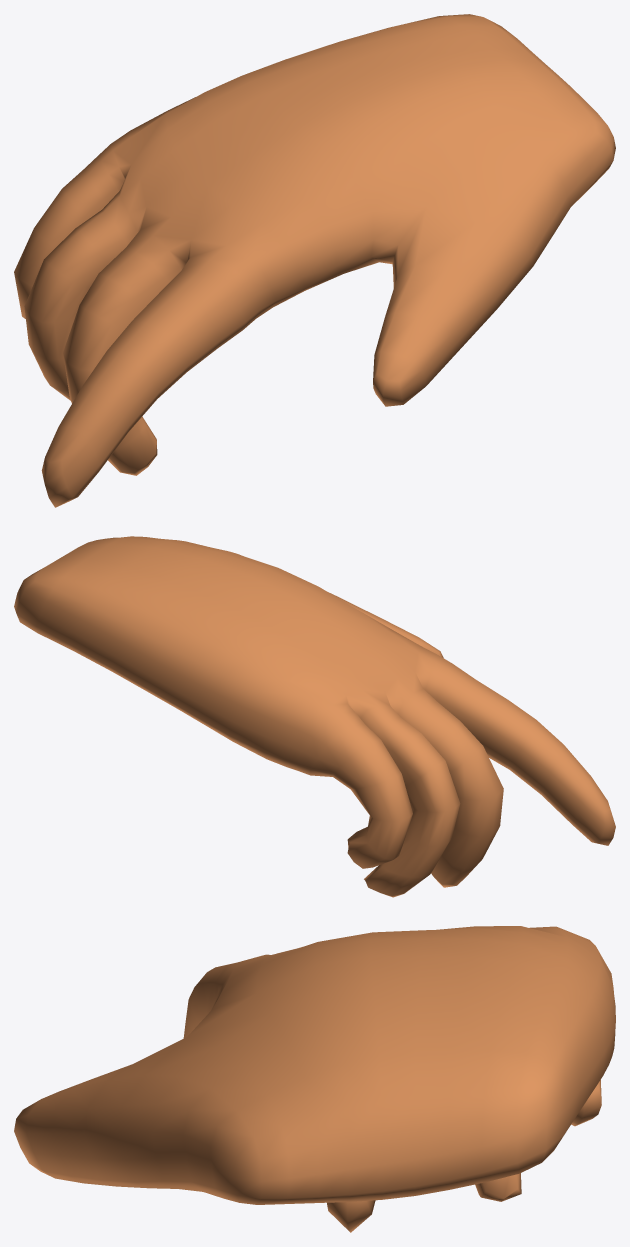
Rendered from hands_basic_right.glb.
3 views of the same model, one above another, from view 1: azimuth 30°, elevation 25°; view 2: azimuth 150°, elevation 25°; view 3: azimuth 270°, elevation 25° (orthographic). The views are drawn at different scales.
Visible parts, largest first — view 1: hands_basic_right; view 2: hands_basic_right; view 3: hands_basic_right.
Part boxes in pixels (x1,y1,x2,y2): hands_basic_right: (14,14,615,507); hands_basic_right: (14,536,615,897); hands_basic_right: (14,926,615,1232).
Size of the model in its own units: 0.2178 by 0.1137 by 0.1435.
